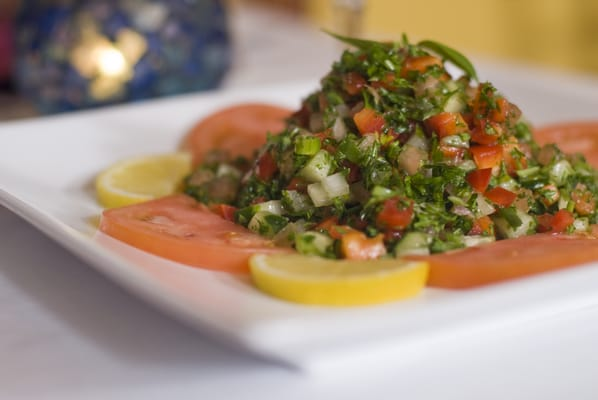taco: (94, 151, 193, 210)
